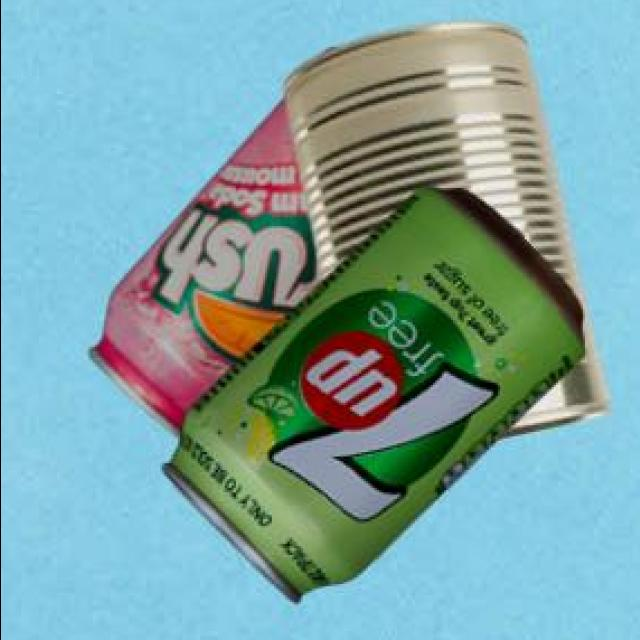logam: (158, 189, 581, 605), (281, 26, 605, 441), (86, 102, 319, 442)
